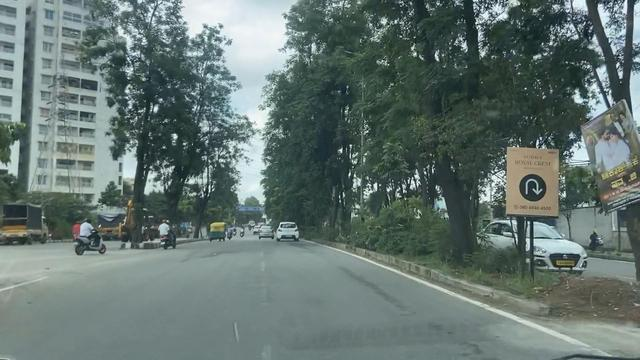LMV: (77, 216, 103, 254), (278, 221, 299, 240), (161, 221, 176, 246), (210, 223, 226, 240), (260, 225, 274, 239)
RoadDamages: (417, 315, 479, 357), (353, 264, 387, 303), (229, 318, 251, 340), (198, 251, 231, 260)
